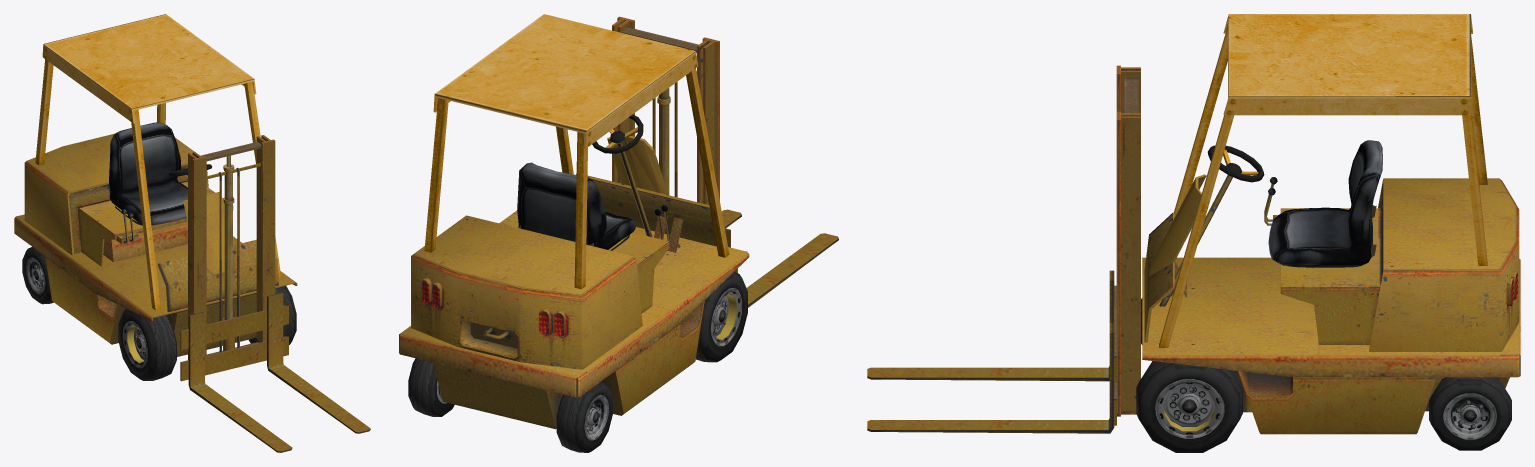
File: Forklift02.glb
3 views of the same model, side by side, from view 1: azimuth 30°, elevation 25°; view 2: azimuth 150°, elevation 25°; view 3: azimuth 270°, elevation 25° (orthographic). The views are drawn at different scales.
Visible parts, largest first — view 1: Forklift02, Forklift_wheel1, Forklift_wheels, Forklift_wheel2; view 2: Forklift02, Forklift_wheels, Forklift_wheel1; view 3: Forklift02, Forklift_wheel2, Forklift_wheels.
Boxes of the visible parts, x1=… form: Forklift02: x1=14, y1=14, x2=370, y2=452; Forklift_wheel1: x1=118, y1=309, x2=176, y2=380; Forklift_wheels: x1=22, y1=247, x2=53, y2=304; Forklift_wheel2: x1=249, y1=285, x2=296, y2=344; Forklift02: x1=399, y1=14, x2=838, y2=429; Forklift_wheels: x1=408, y1=358, x2=612, y2=452; Forklift_wheel1: x1=696, y1=272, x2=747, y2=362; Forklift02: x1=867, y1=14, x2=1520, y2=434; Forklift_wheel2: x1=1136, y1=361, x2=1242, y2=452; Forklift_wheels: x1=1429, y1=377, x2=1511, y2=450.
Bounding box in the file's own units: 1.19 × 2.02 × 3.37.
3 materials, 3 textured.
